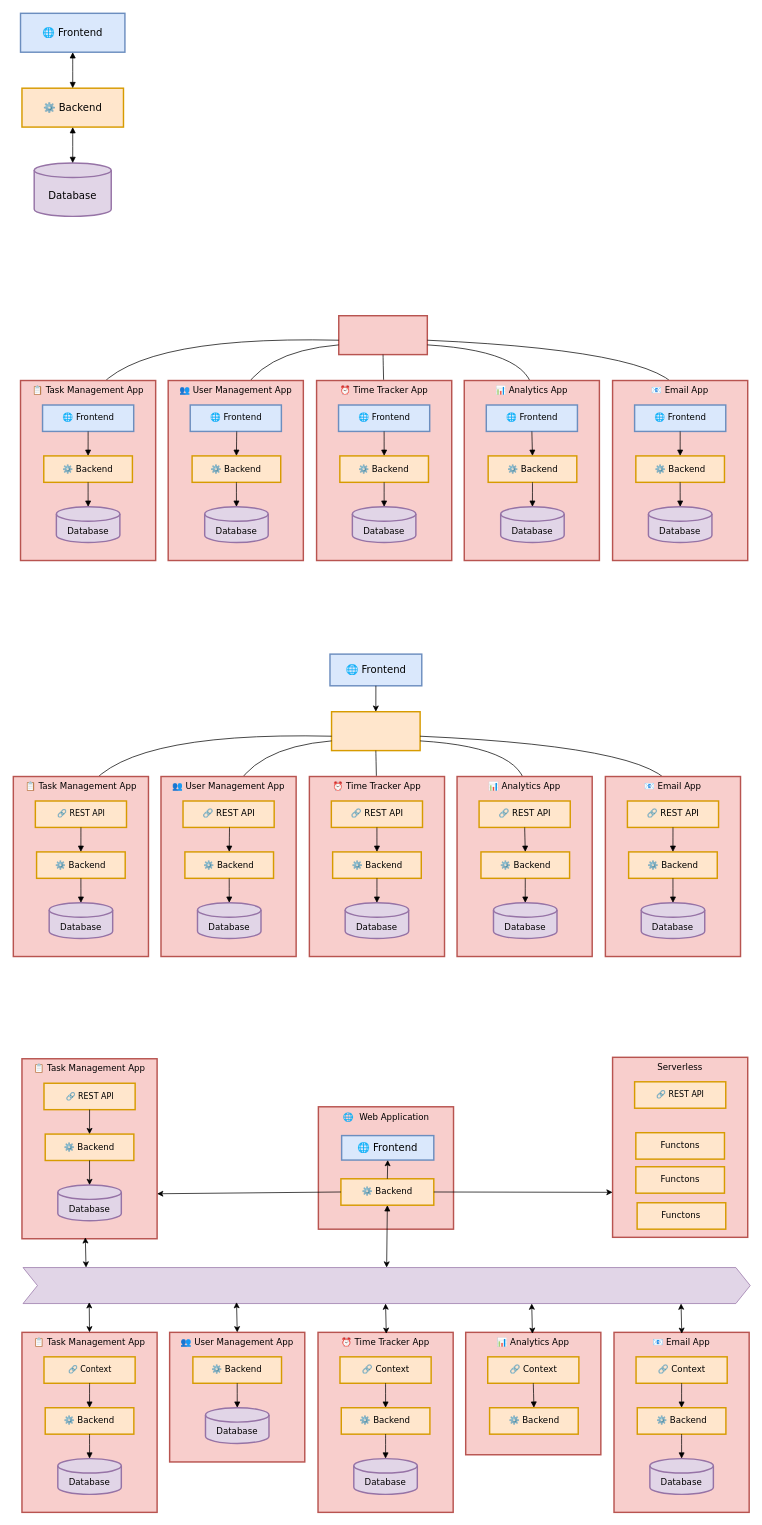
Some shapes in this 762 by 1525 pixel diagram are drawn without their labels. The centre of each missing label's shape, as x and y in pixels:
"API Gateway" goes at pixel 375 731.
"Event Stream" goes at pixel 386 1285.
"🏛️ Portal" goes at pixel 383 335.
